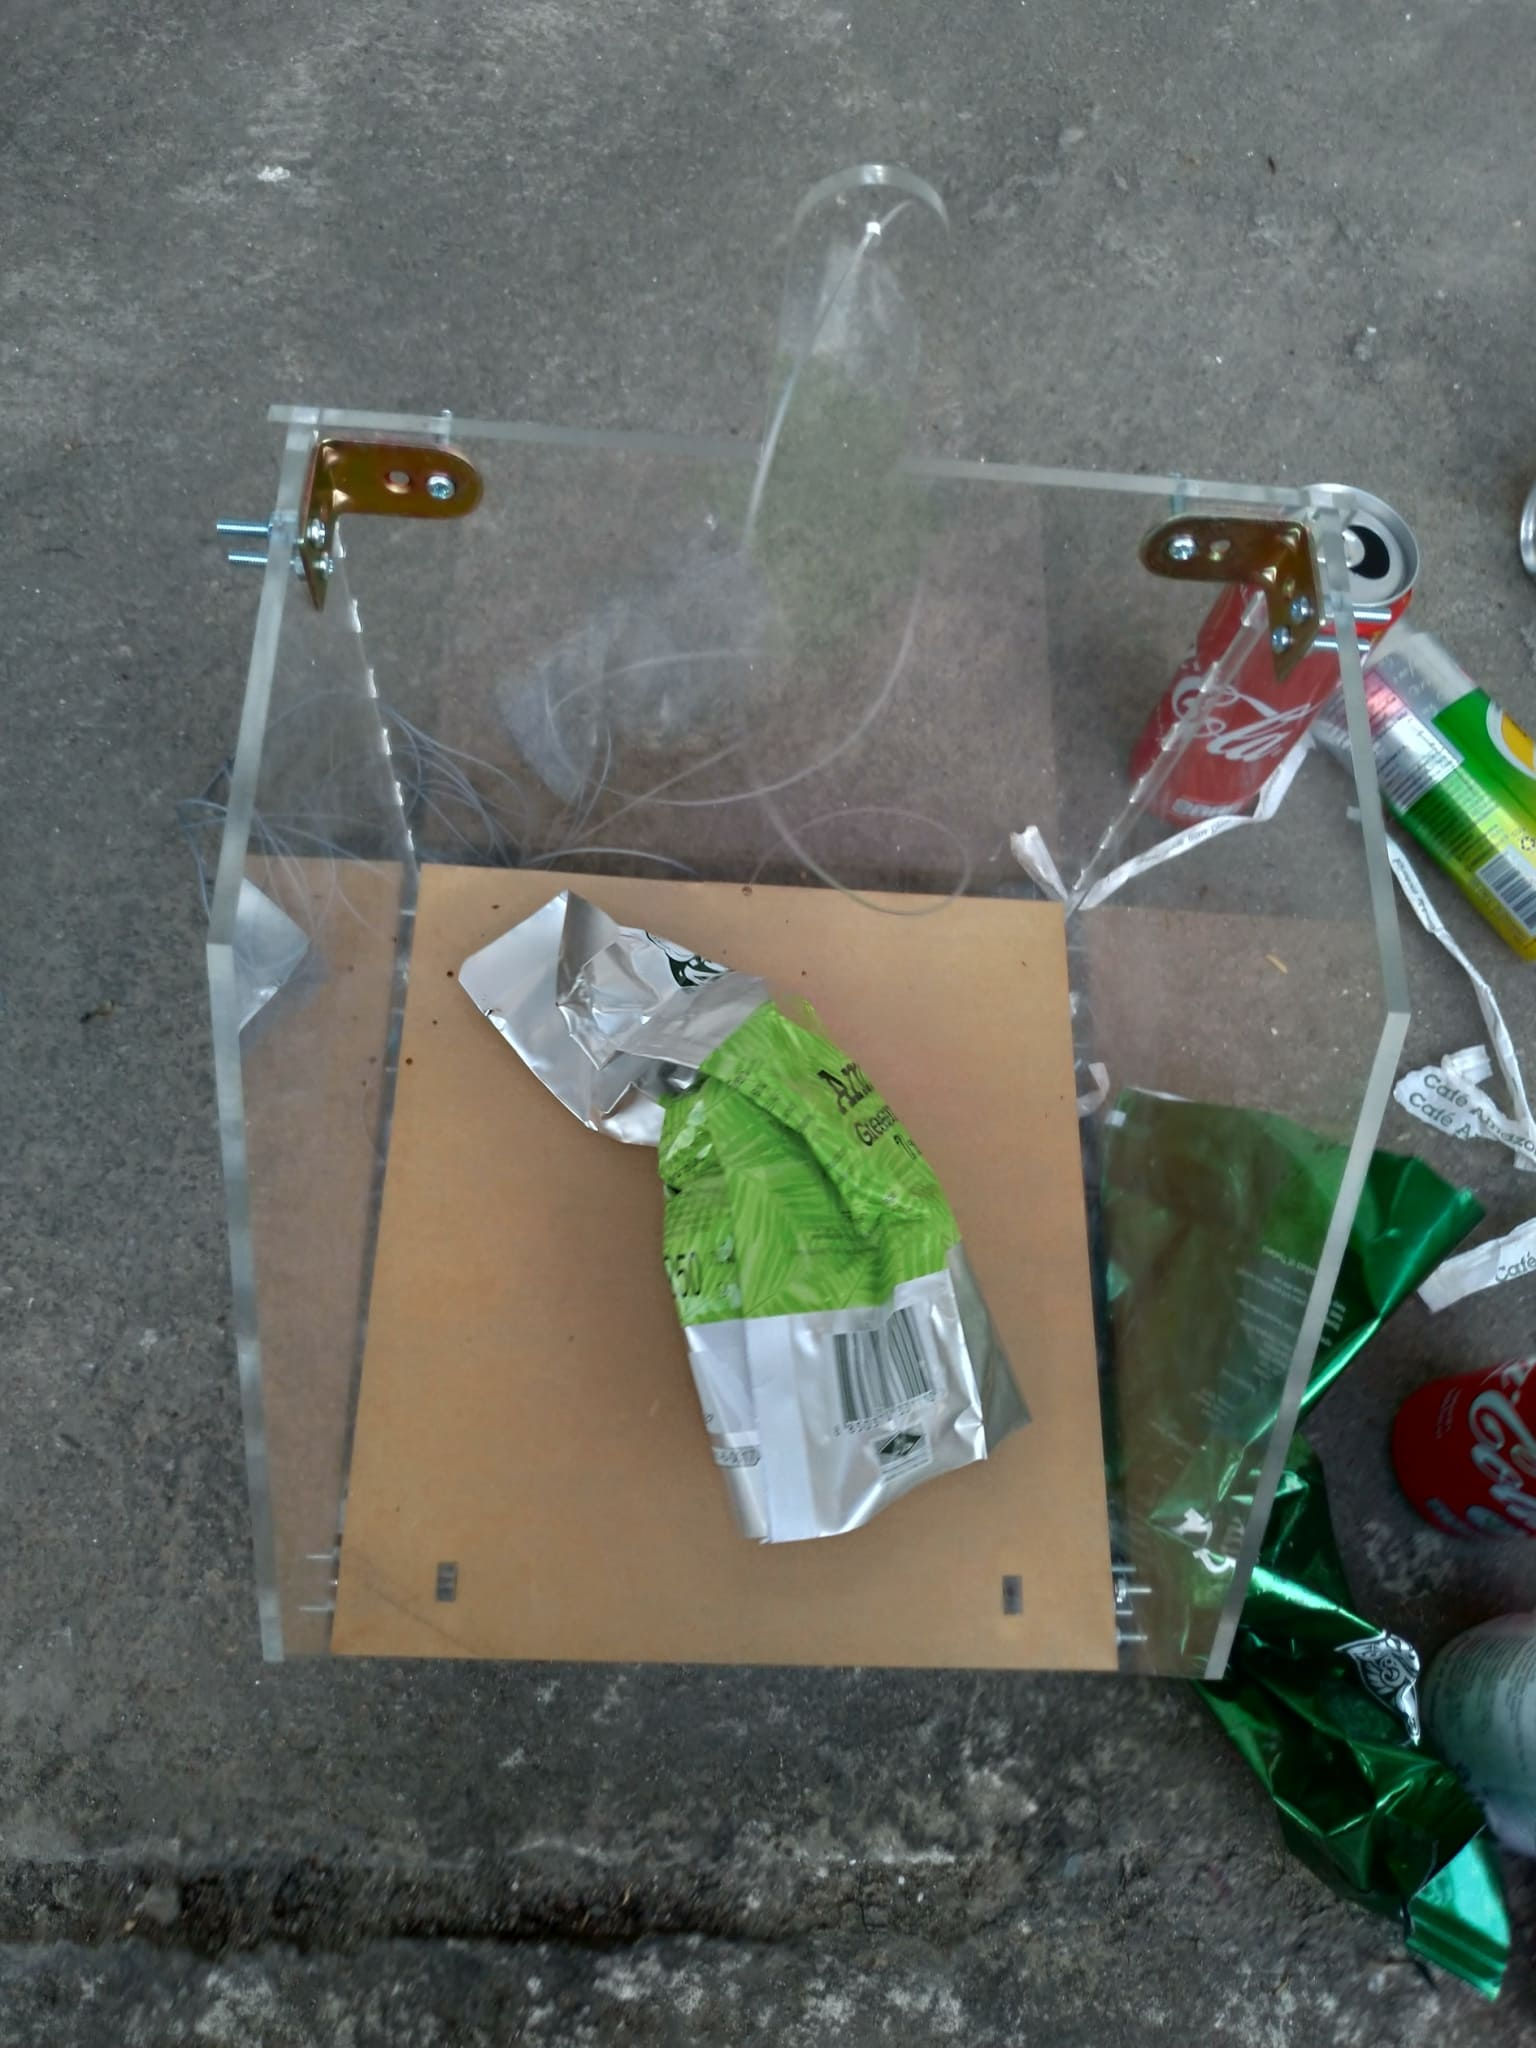AlCan: (1134, 484, 1407, 818), (1333, 642, 1536, 930), (1394, 1361, 1533, 1551), (1421, 1611, 1536, 1785)
Others: (450, 892, 1016, 1542), (1104, 1089, 1504, 1988)
